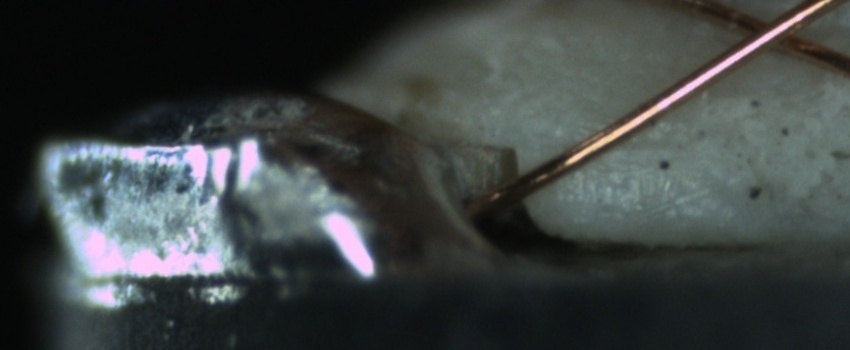CL: (720, 2, 821, 62)
DL: (579, 127, 690, 175)
